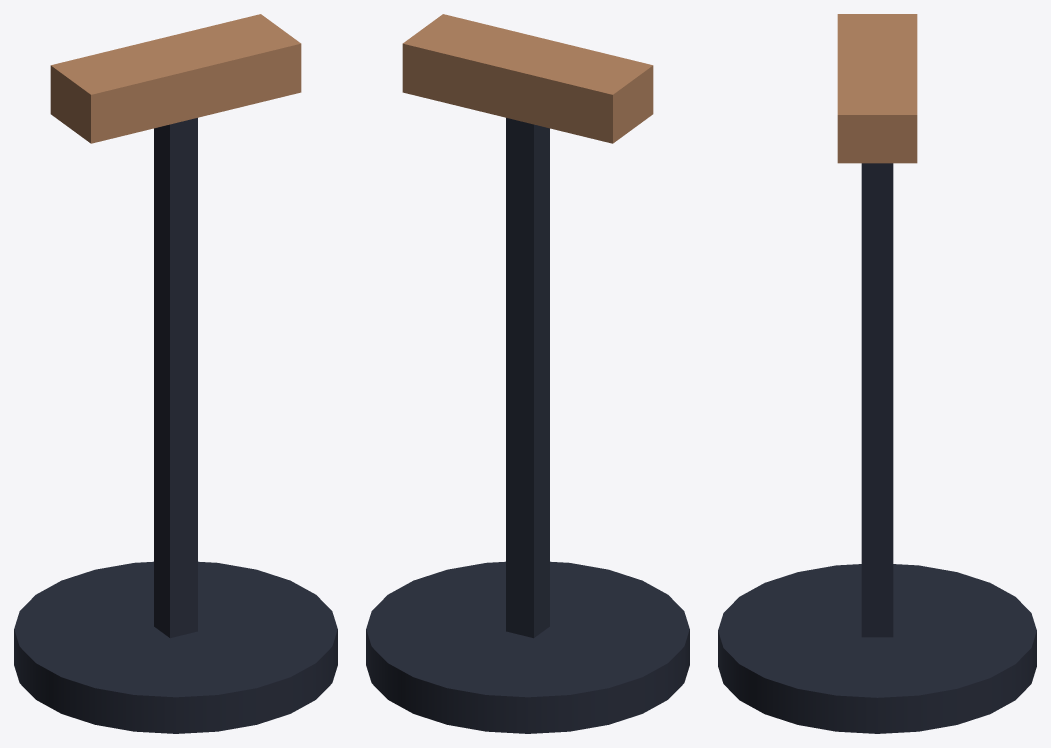
File: headphone-stand.glb
3 renders of one model, left to right at view 1: azimuth 30°, elevation 25°; view 2: azimuth 150°, elevation 25°; view 3: azimuth 270°, elevation 25°, orthographic.
Parts seen in each view (by area): view 1: headphone-stand; view 2: headphone-stand; view 3: headphone-stand.
Boxes of the visible parts, x1=… form: headphone-stand: x1=14, y1=14, x2=337, y2=733; headphone-stand: x1=366, y1=14, x2=689, y2=733; headphone-stand: x1=718, y1=14, x2=1036, y2=733.
Bounding box in the file's own units: 12 × 25 × 12.
